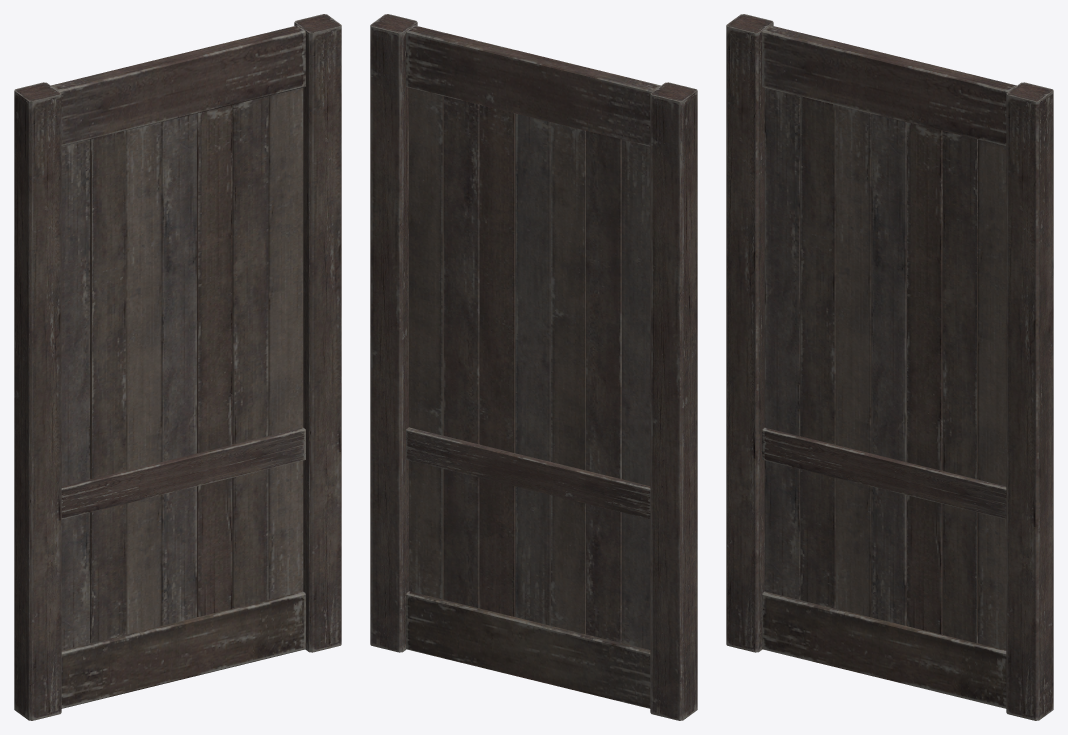
The model's file is WoodDoor.fbx.
The picture shows the model from 3 angles, left to right: view 1: azimuth 30°, elevation 25°; view 2: azimuth 150°, elevation 25°; view 3: azimuth 330°, elevation 25°; orthographic projection.
Parts seen in each view (by area): view 1: WoodDoor.mo; view 2: WoodDoor.mo; view 3: WoodDoor.mo.
Boxes of the visible parts, box(x1,y1,x2,y2) form: WoodDoor.mo: box(14, 14, 341, 720); WoodDoor.mo: box(370, 14, 697, 720); WoodDoor.mo: box(726, 14, 1053, 720).
Size of the model in its own units: 224 by 423 by 21.37.
